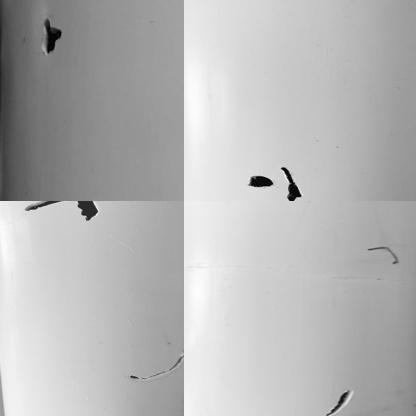fengxi: (128, 355, 186, 383), (366, 241, 405, 267), (25, 199, 65, 213)
kongdong: (39, 16, 65, 56), (325, 384, 357, 416), (282, 163, 307, 201), (73, 199, 101, 223), (246, 176, 274, 190)
